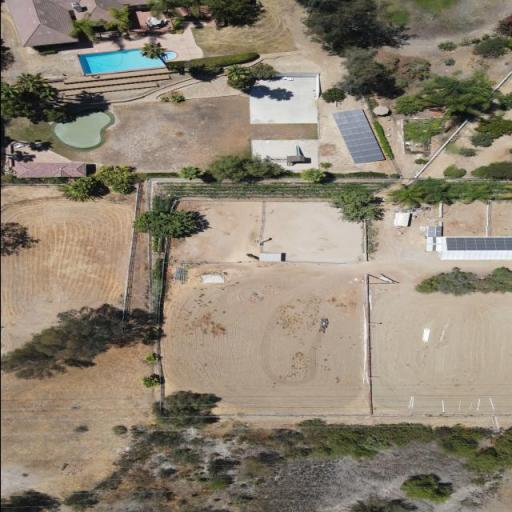solar-panel: (330, 108, 385, 164), (445, 237, 512, 251)
